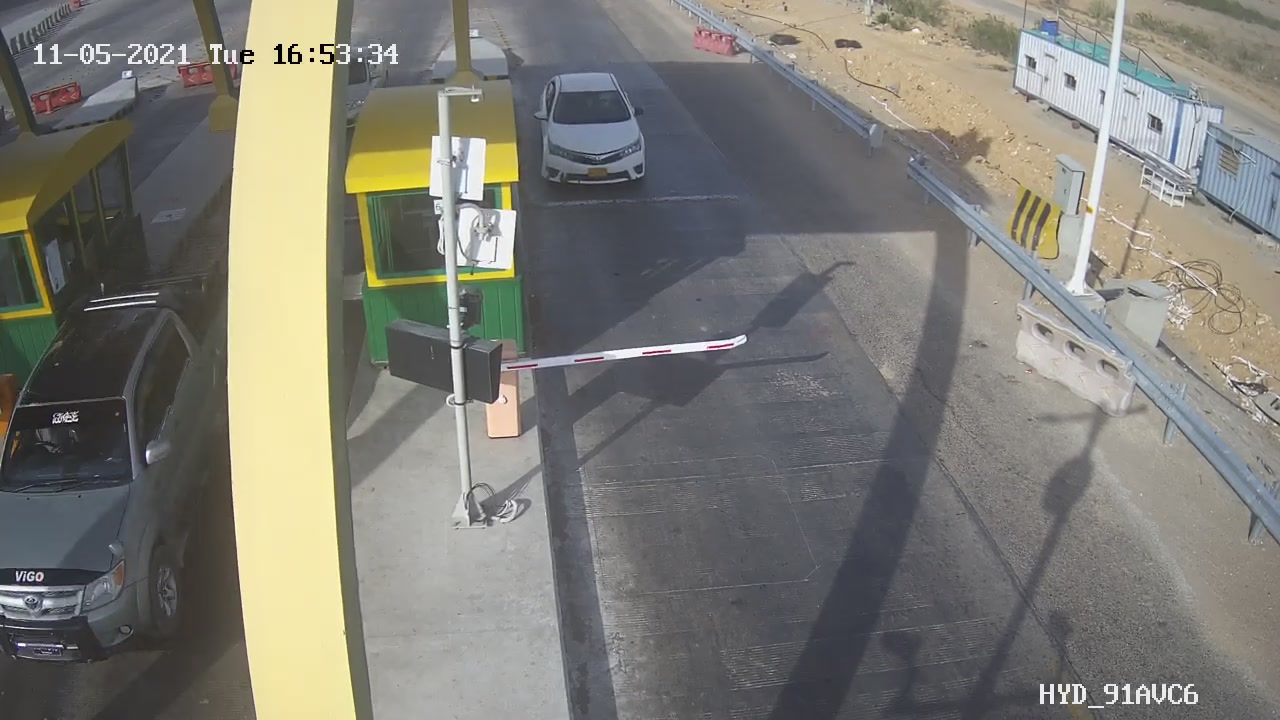F1: (524, 57, 669, 201)
